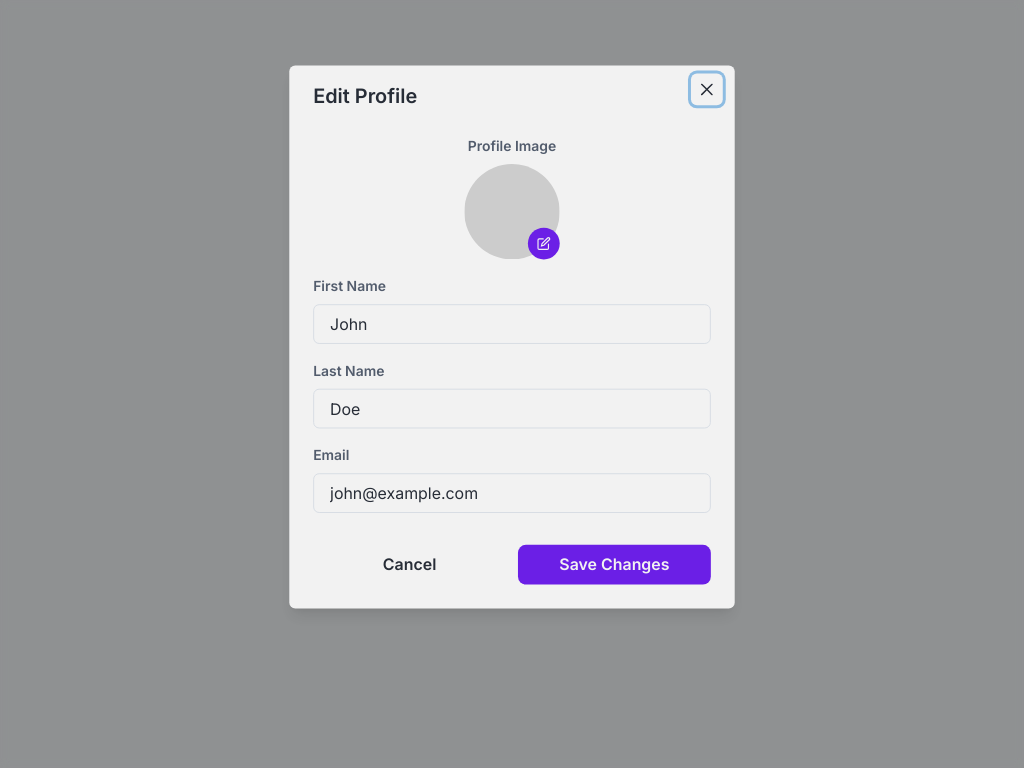
Test: EditProfileModal › disables save button when last name is empty
Clear the field with placeholder "Enter last name" below "Last Name" at (512, 409), box [313, 389, 711, 428]
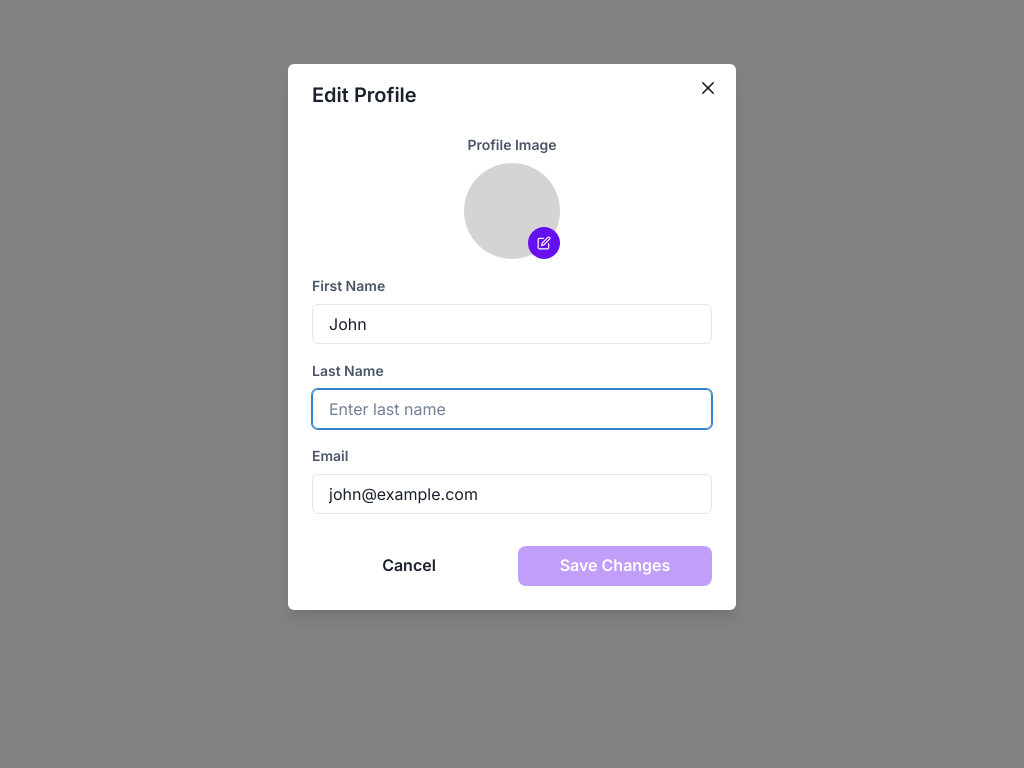
Expected: the button "Save Changes" is disabled, [518, 546, 712, 586]
